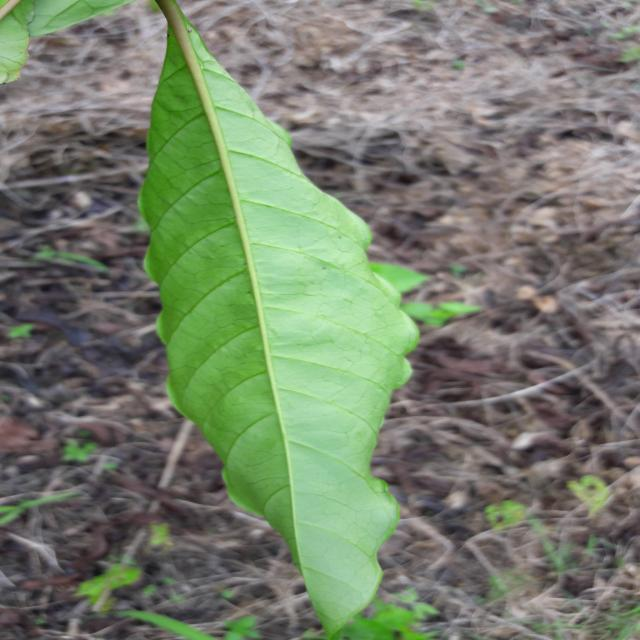Sanas: (138, 0, 447, 640)
